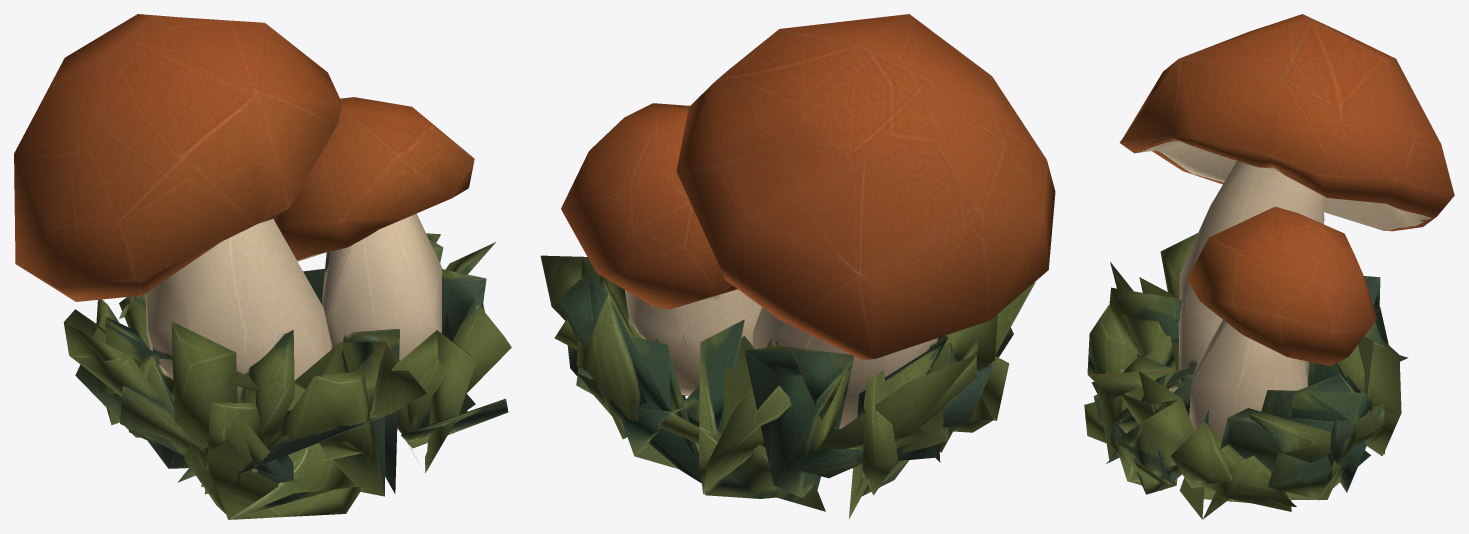
Rendered from AW-VAR-FLORA-006-v0.2.glb.
The picture shows the model from 3 angles, left to right: view 1: azimuth 30°, elevation 25°; view 2: azimuth 150°, elevation 25°; view 3: azimuth 270°, elevation 25°; orthographic projection. The views are drawn at different scales.
Parts seen in each view (by area): view 1: AW-VAR-FLORA-006_meter_ground_pivot; view 2: AW-VAR-FLORA-006_meter_ground_pivot; view 3: AW-VAR-FLORA-006_meter_ground_pivot.
Part boxes in pixels (x1,y1,x2,y2): AW-VAR-FLORA-006_meter_ground_pivot: (14, 14, 511, 519); AW-VAR-FLORA-006_meter_ground_pivot: (540, 14, 1055, 518); AW-VAR-FLORA-006_meter_ground_pivot: (1084, 14, 1454, 519).
Bounding box in the file's own units: 0.3918 × 0.35 × 0.2986.
1 material, 1 textured.
